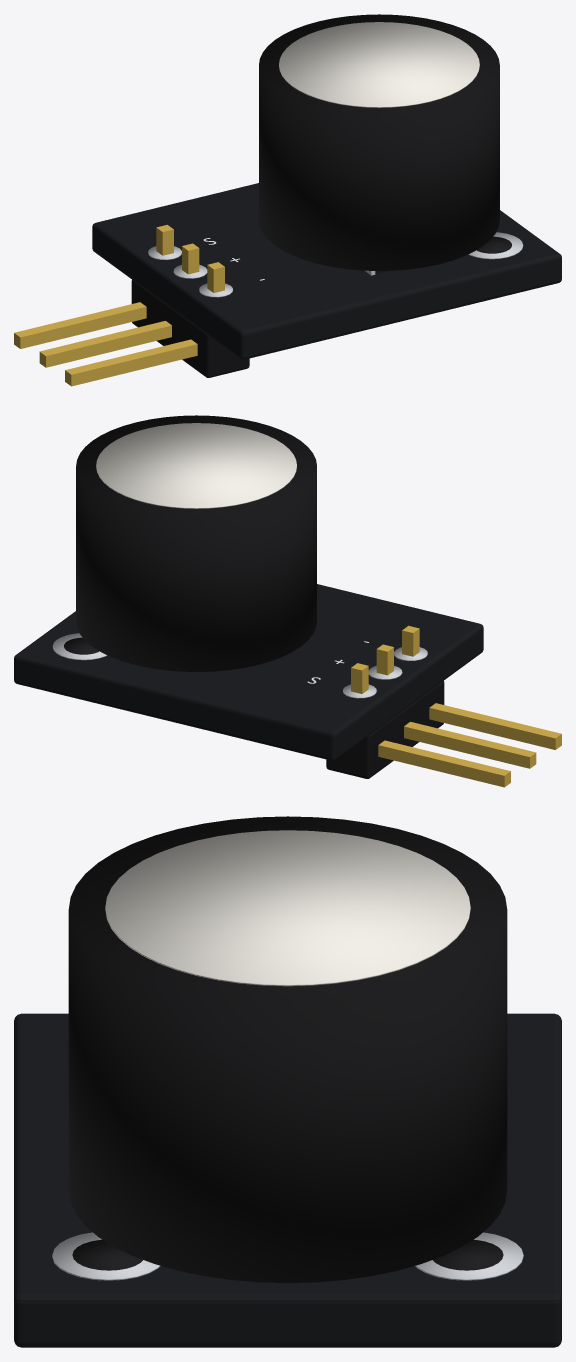
The model's file is active-buzzer.glb.
The picture shows the model from 3 angles, top to bottom: view 1: azimuth 30°, elevation 25°; view 2: azimuth 150°, elevation 25°; view 3: azimuth 270°, elevation 25°; orthographic projection. The views are drawn at different scales.
Parts seen in each view (by area): view 1: part.083, pcb.031, part.084, header.031, pin_h.107, pin_h.105, pin_h.106, hole_ring.054, pin_v.106, pin_v.107, pin_v.105; view 2: part.083, pcb.031, part.084, header.031, pin_h.105, pin_h.106, pin_h.107, hole_ring.053, pin_v.105, pin_v.106, pin_v.107; view 3: part.083, pcb.031, part.084, hole_ring.053, hole_ring.054, hole.053, hole.054.
Boxes of the visible parts, left/top/right/bottom form: part.083: left=259, top=14, right=499, bottom=270; pcb.031: left=92, top=183, right=561, bottom=359; part.084: left=279, top=22, right=479, bottom=107; header.031: left=131, top=280, right=249, bottom=377; pin_h.107: left=65, top=339, right=197, bottom=386; pin_h.105: left=14, top=302, right=146, bottom=348; pin_h.106: left=39, top=321, right=171, bottom=367; hole_ring.054: left=468, top=232, right=523, bottom=259; pin_v.106: left=182, top=243, right=199, bottom=274; pin_v.107: left=207, top=262, right=224, bottom=292; pin_v.105: left=156, top=224, right=173, bottom=255; part.083: left=76, top=415, right=316, bottom=671; pcb.031: left=14, top=584, right=483, bottom=760; part.084: left=96, top=423, right=296, bottom=508; header.031: left=326, top=681, right=444, bottom=778; pin_h.105: left=378, top=740, right=510, bottom=787; pin_h.106: left=404, top=722, right=536, bottom=768; pin_h.107: left=429, top=703, right=561, bottom=749; hole_ring.053: left=52, top=633, right=107, bottom=660; pin_v.105: left=351, top=663, right=368, bottom=693; pin_v.106: left=376, top=644, right=393, bottom=675; pin_v.107: left=402, top=625, right=419, bottom=656; part.083: left=68, top=816, right=507, bottom=1283; pcb.031: left=14, top=1013, right=561, bottom=1347; part.084: left=105, top=830, right=470, bottom=986; hole_ring.053: left=415, top=1232, right=523, bottom=1280; hole_ring.054: left=52, top=1232, right=160, bottom=1280; hole.053: left=433, top=1239, right=503, bottom=1270; hole.054: left=72, top=1239, right=142, bottom=1270.
Size of the model in its own units: 0.0256 by 0.013 by 0.015.
